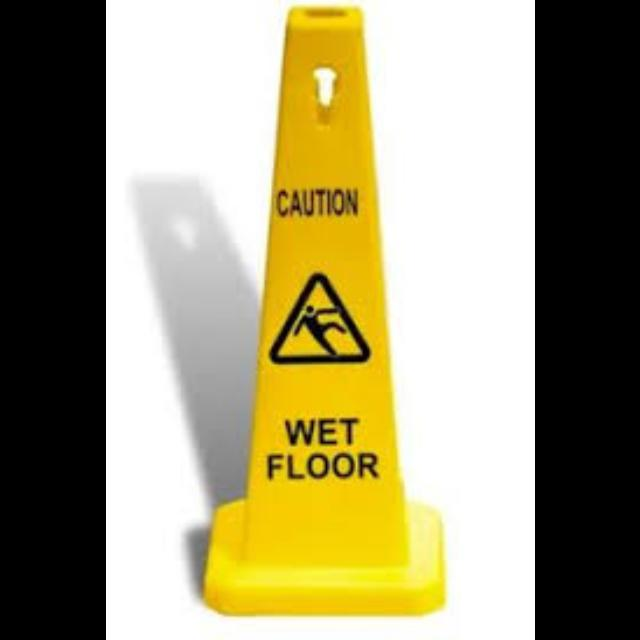tron truot: (203, 7, 441, 612)
